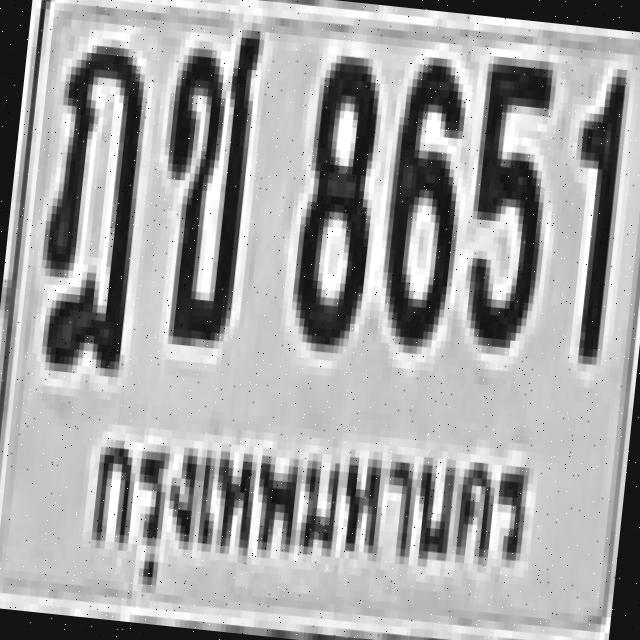1: (555, 62, 627, 360)
19ChorChang: (145, 14, 261, 342)
23DorChaDa: (29, 34, 150, 370)
5: (455, 46, 554, 342)
6: (372, 46, 471, 341)
8: (283, 45, 383, 346)
Bangkok: (67, 401, 550, 625)
